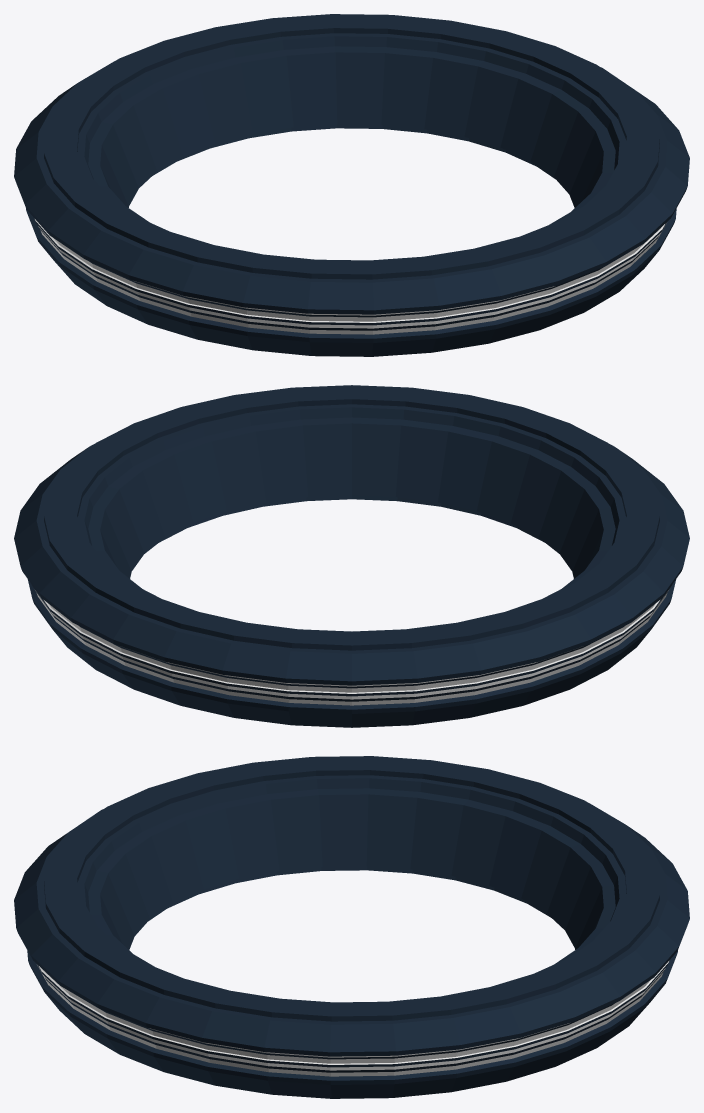
Rendered from Habitat_1_LODGroup.fbx.
3 views of the same model, one above another, from view 1: azimuth 30°, elevation 25°; view 2: azimuth 150°, elevation 25°; view 3: azimuth 270°, elevation 25° (orthographic).
Visible parts, largest first — view 1: Habitat 1_LOD0; view 2: Habitat 1_LOD0; view 3: Habitat 1_LOD0.
Part boxes in pixels (box(x1,y1,x2,y2)): Habitat 1_LOD0: box(14, 14, 689, 356); Habitat 1_LOD0: box(14, 385, 689, 727); Habitat 1_LOD0: box(14, 756, 689, 1098).
Size of what is drawn, in the model's own units: 1559 by 210 by 1559.
